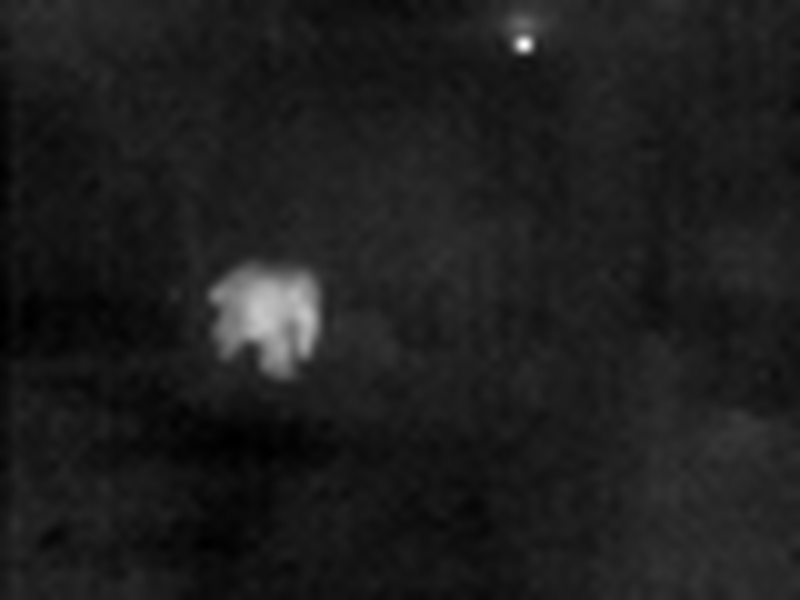elephant: (204, 254, 322, 394)
